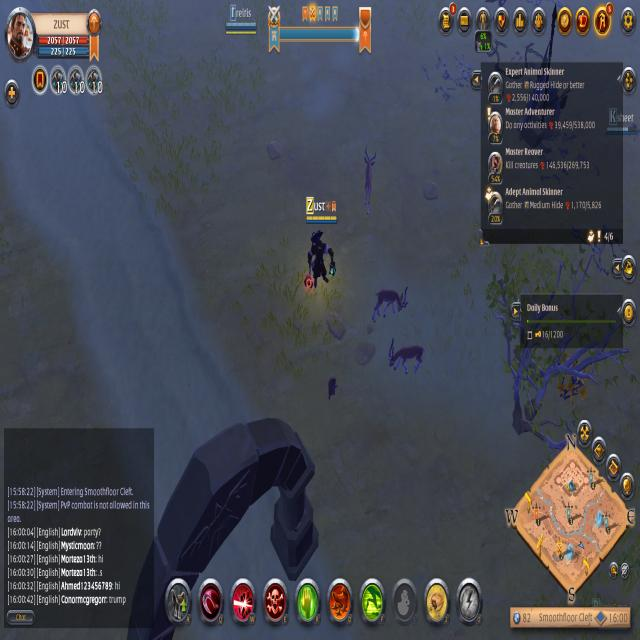deer_alive: (386, 333, 431, 388), (370, 279, 413, 332), (359, 148, 384, 218)
